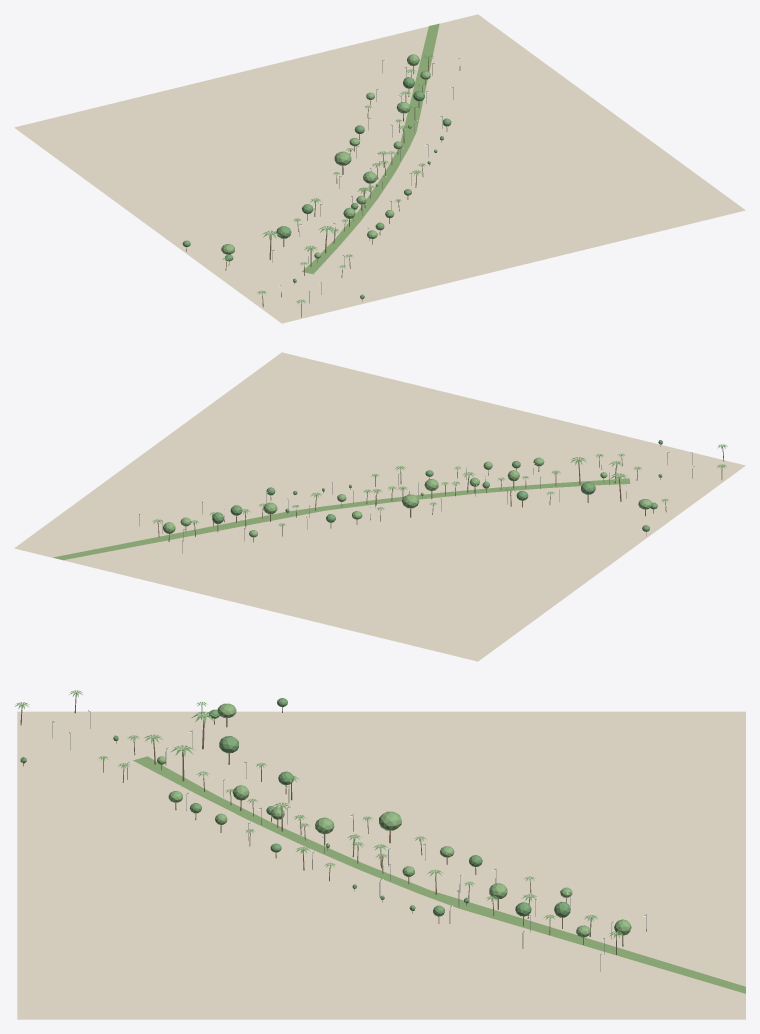
Rendered from nature_1_2.glb.
3 renders of one model, top to bottom at view 1: azimuth 30°, elevation 25°; view 2: azimuth 150°, elevation 25°; view 3: azimuth 270°, elevation 25°, orthographic. The views are drawn at different scales.
Visible parts, largest first — view 1: ground, grass, foliage_b, foliage_a, palm_leaf, trunk; view 2: ground, grass, foliage_b, palm_leaf, foliage_a, trunk; view 3: ground, grass, foliage_b, palm_leaf, foliage_a, trunk, lamp_pole.
Boxes of the visible parts, x1,y1,x2,y2 form: ground: (14, 14, 745, 323); grass: (301, 23, 439, 274); foliage_b: (221, 54, 430, 258); foliage_a: (182, 77, 451, 299); palm_leaf: (223, 54, 433, 304); trunk: (186, 57, 447, 317); ground: (14, 352, 745, 661); grass: (53, 478, 630, 560); foliage_b: (163, 457, 652, 537); palm_leaf: (152, 444, 727, 526); foliage_a: (212, 440, 662, 531); trunk: (158, 444, 723, 542); ground: (17, 711, 745, 1019); grass: (133, 756, 745, 993); foliage_b: (157, 703, 631, 937); palm_leaf: (15, 690, 624, 938); foliage_a: (20, 698, 570, 917); trunk: (20, 693, 623, 954); lamp_pole: (52, 710, 646, 971).
Size of the model in its own units: 252 by 13.47 by 251.
